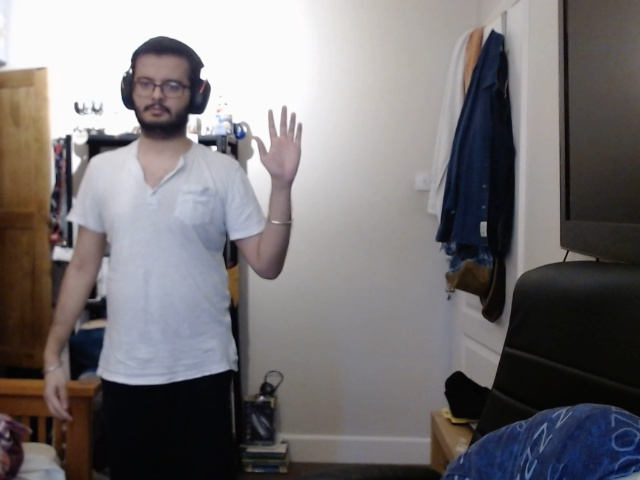Hello: (250, 100, 307, 183)
